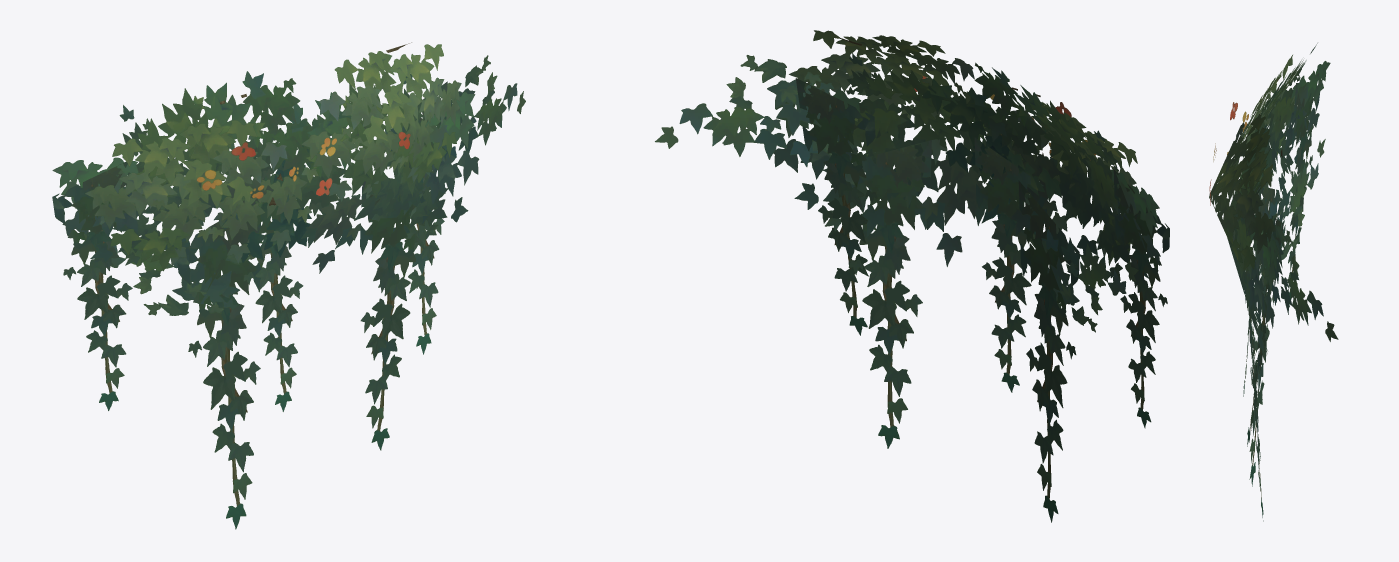
Rendered from Stages_LYLvy103_Vo.fbx.
3 views of the same model, side by side, from view 1: azimuth 30°, elevation 25°; view 2: azimuth 150°, elevation 25°; view 3: azimuth 270°, elevation 25° (orthographic). The views are drawn at different scales.
Visible parts, largest first — view 1: Stages_LYLvy103_Vo; view 2: Stages_LYLvy103_Vo; view 3: Stages_LYLvy103_Vo.
Boxes of the visible parts, <box> form: Stages_LYLvy103_Vo: <box>52,42,525,529</box>; Stages_LYLvy103_Vo: <box>655,30,1169,522</box>; Stages_LYLvy103_Vo: <box>1209,43,1338,521</box>.
Bounding box in the file's own units: 4.7 × 3.85 × 1.32.
